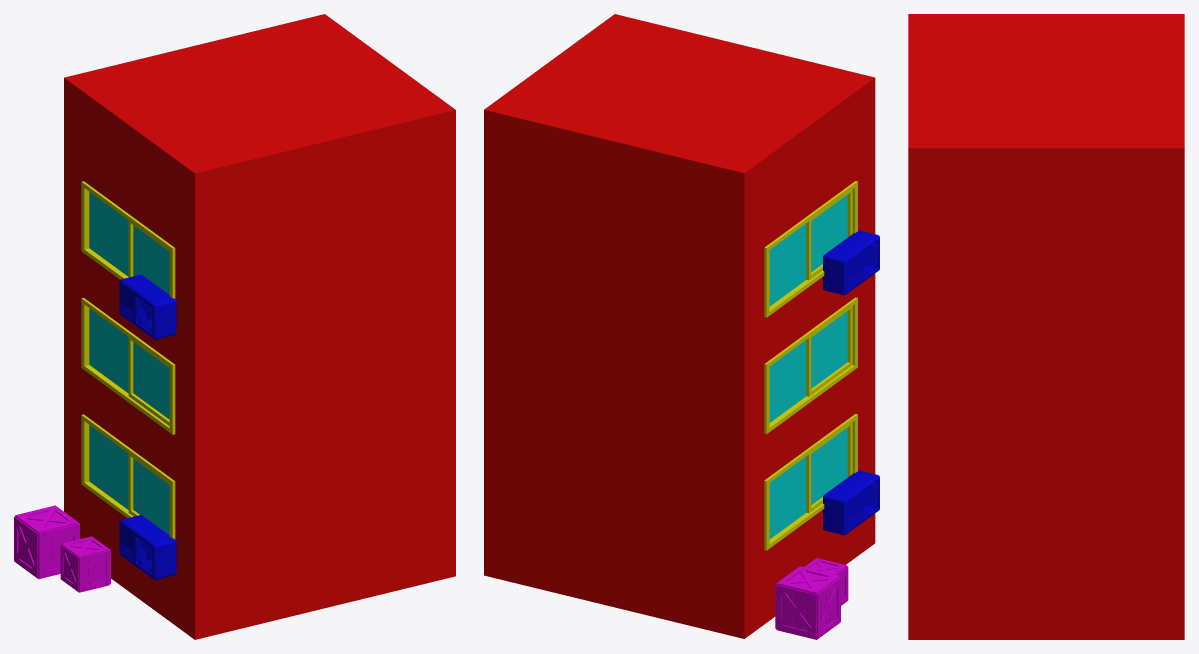
Rendered from Building_4.fbx.
3 renders of one model, left to right at view 1: azimuth 30°, elevation 25°; view 2: azimuth 150°, elevation 25°; view 3: azimuth 270°, elevation 25°, orthographic. The views are drawn at different scales.
Visible parts, largest first — view 1: Building_4; view 2: Building_4; view 3: Building_4.
Part boxes in pixels (bbox=[...]): Building_4: bbox=[14, 14, 455, 639]; Building_4: bbox=[484, 14, 879, 639]; Building_4: bbox=[908, 14, 1184, 639].
Size of the model in its own units: 201 by 278 by 142.
